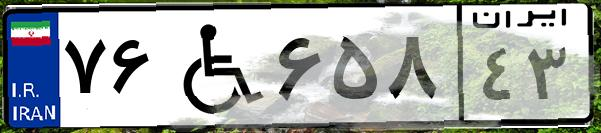3: (525, 38, 570, 115)
4: (475, 38, 525, 113)
5: (330, 28, 385, 110)
6: (270, 28, 330, 110), (110, 28, 158, 98)
7: (57, 26, 110, 100)
8: (385, 28, 445, 110)
ژ (معلولین و جانبازان): (158, 12, 270, 120)
